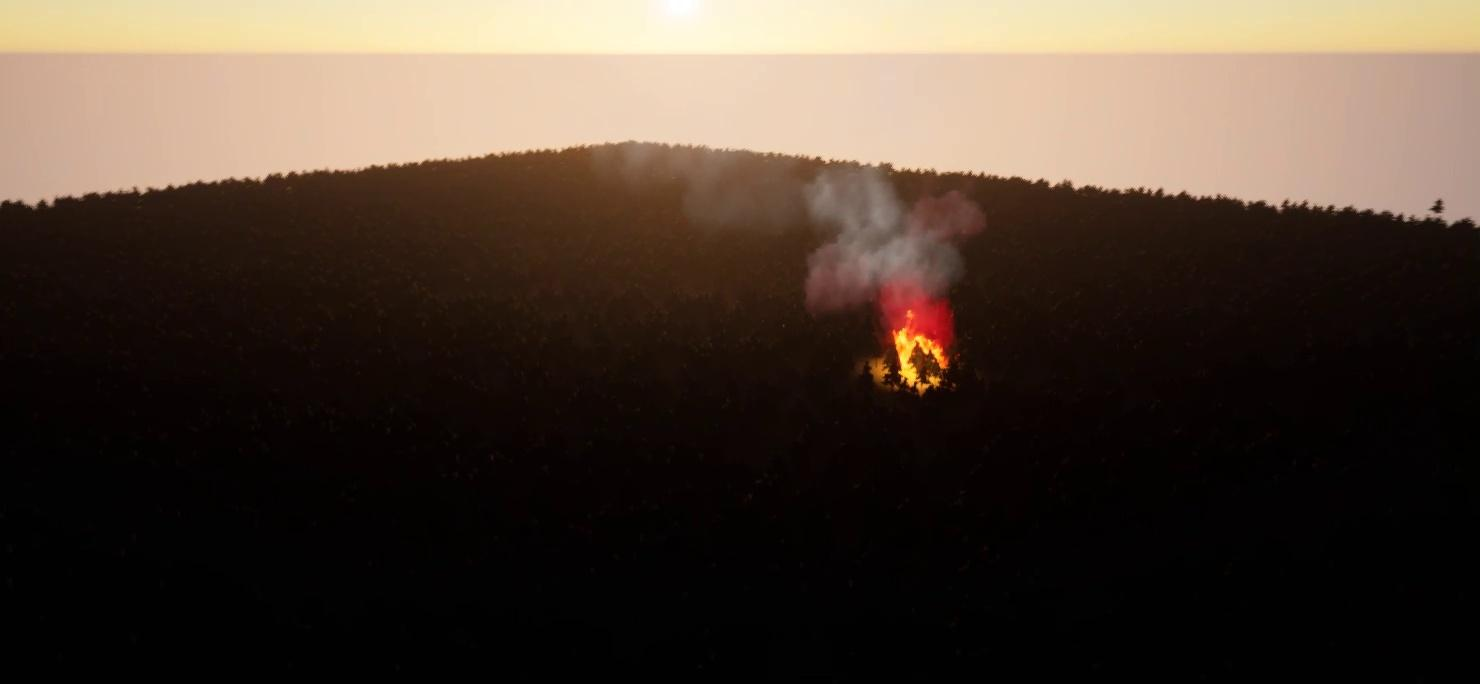fire: (885, 320, 964, 388)
smoke: (626, 134, 989, 311)
